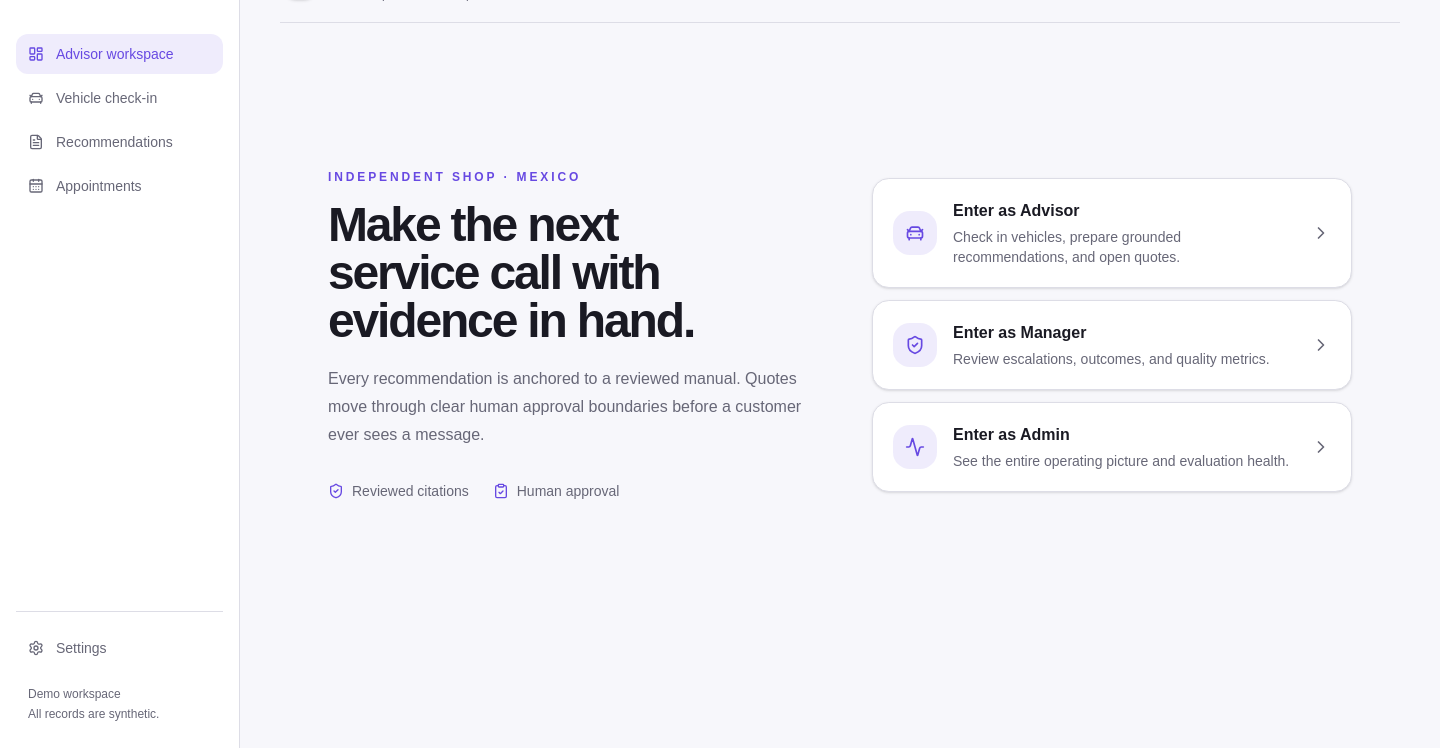
it: a saved check-in is not reported as unsaved when the recommendation fails
Click the button "Enter as Advisor". click: (1112, 232)
box: [872,178,1352,288]
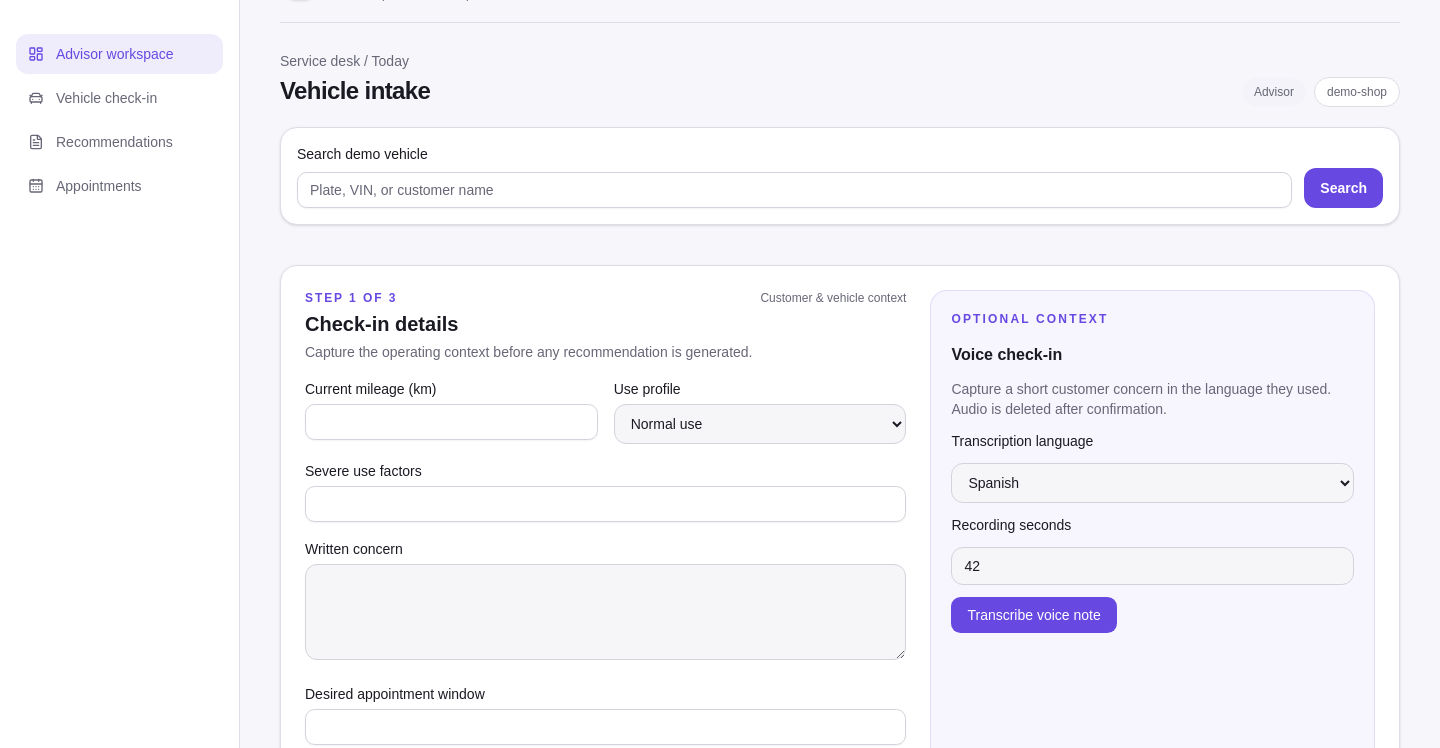
Type "48000" into the number field labelled "Current mileage (km)". click: (451, 422)
box: [305,404,598,440]
(page scrolled)
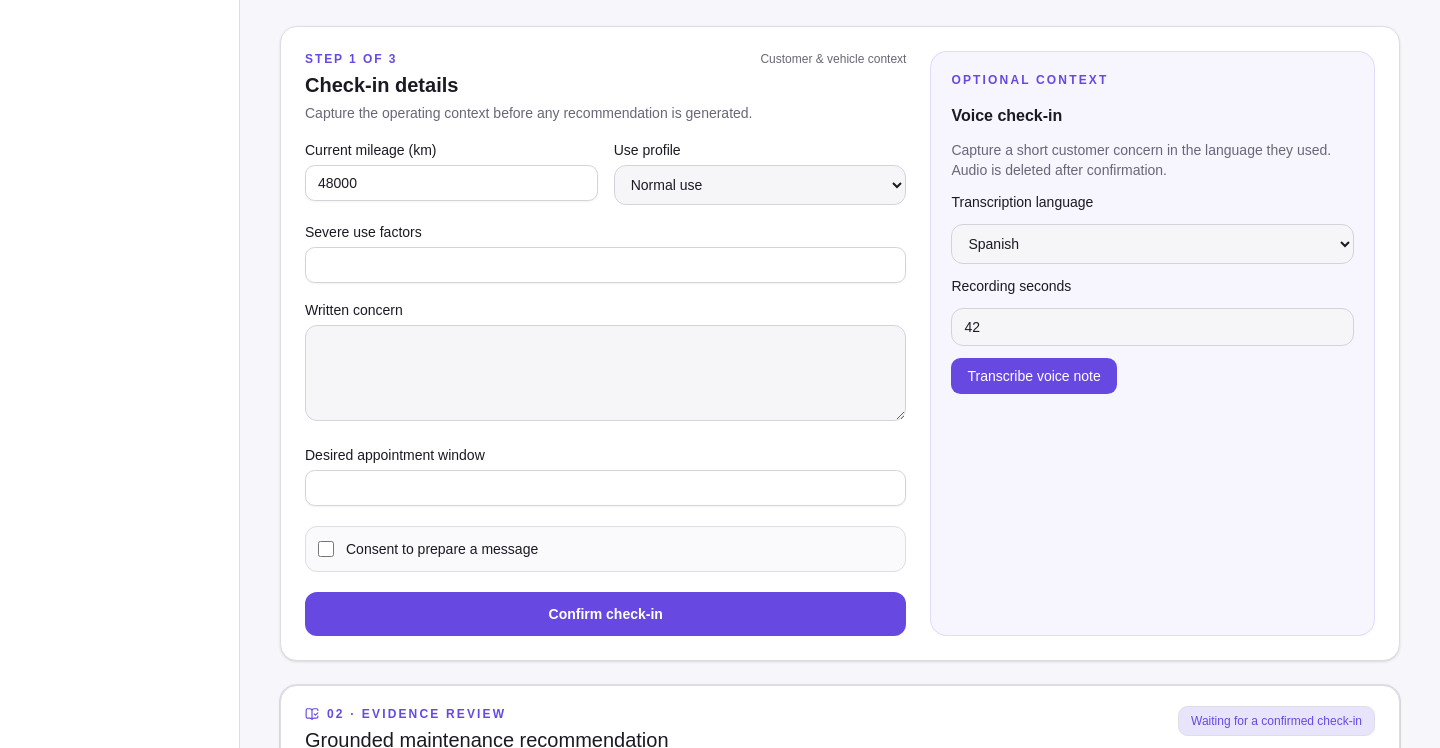
Submit the form "Check-in details"
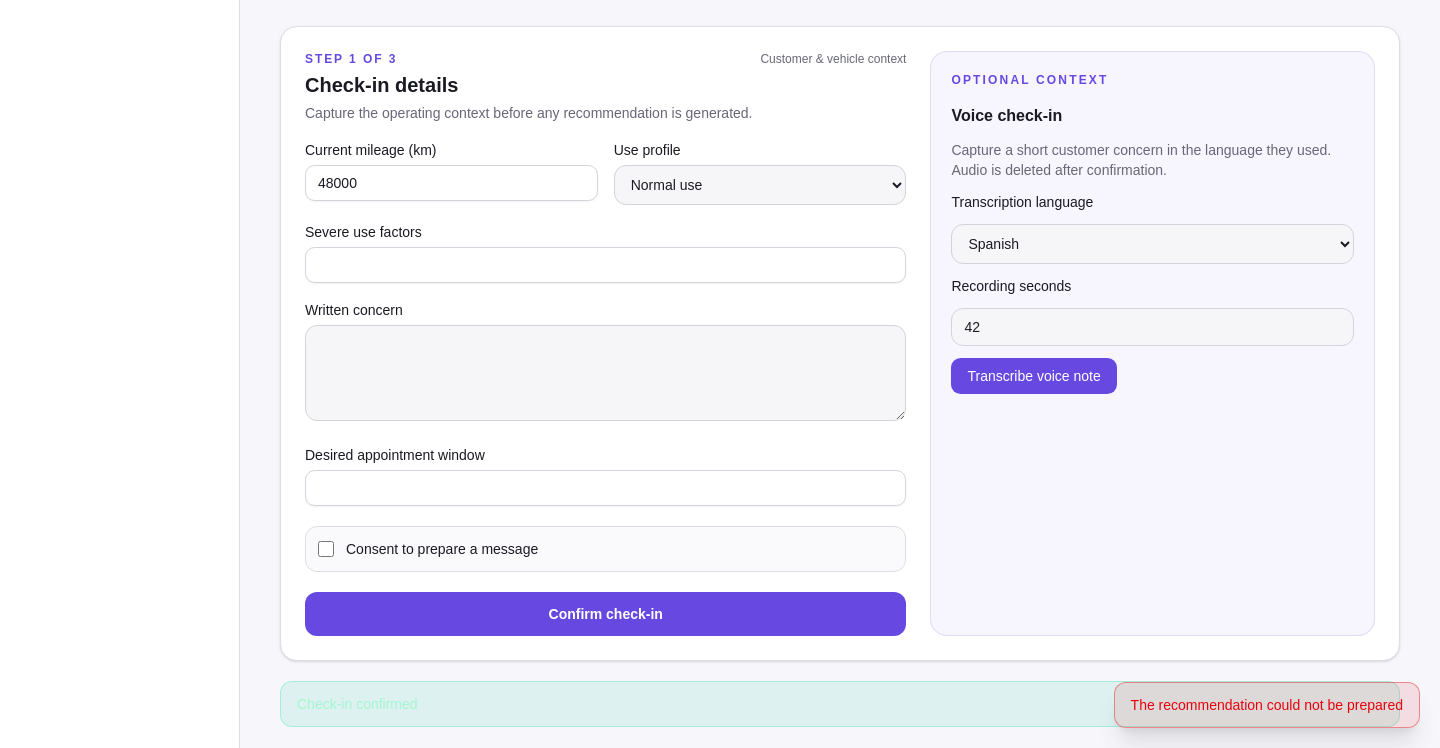
Expected: the text "The recommendation could not be prepared" is shown, [1114,682,1420,728]
Expected: the text "Check-in confirmed" is shown, [280,681,1400,727]
